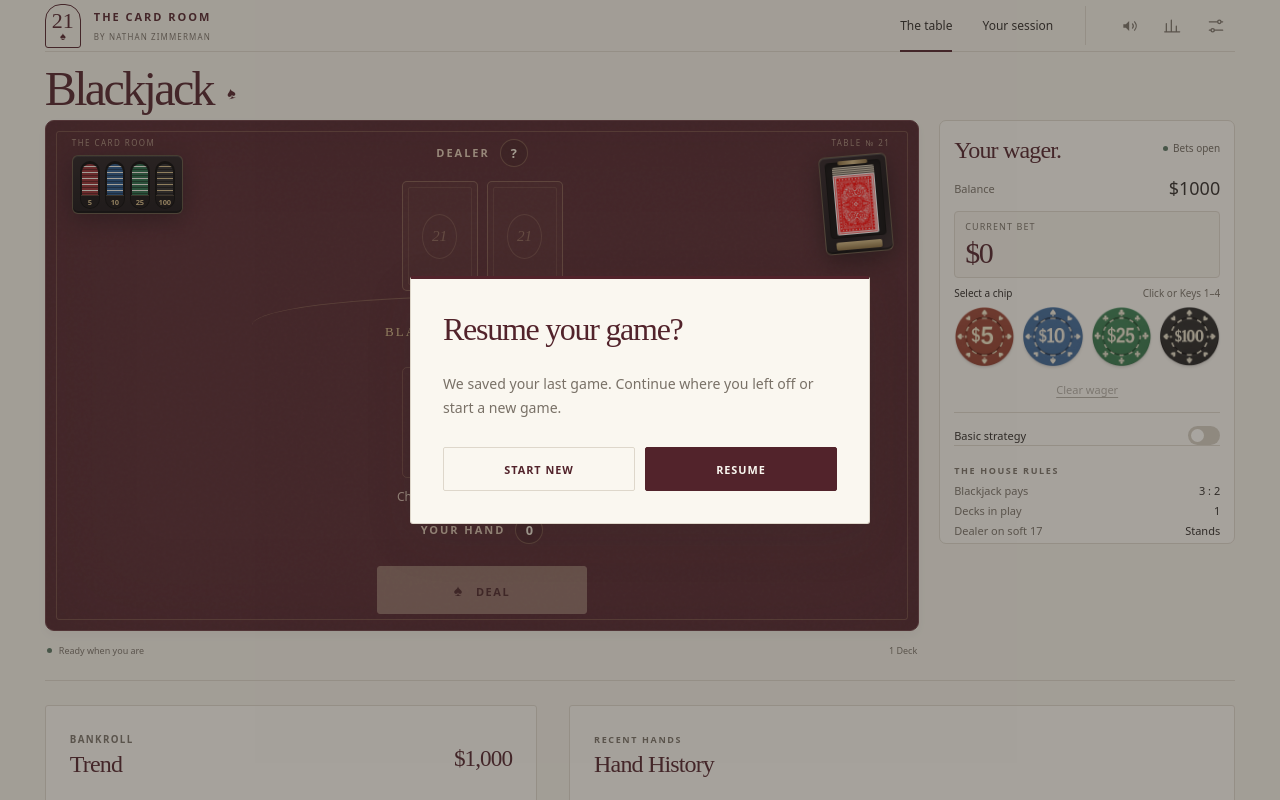
Test: BlackjackGame › handles resume action
Expected: the heading "Resume your game?" is shown, [443,311,682,347]
Click the button "Resume" at (741, 469), box [645,447,837,491]
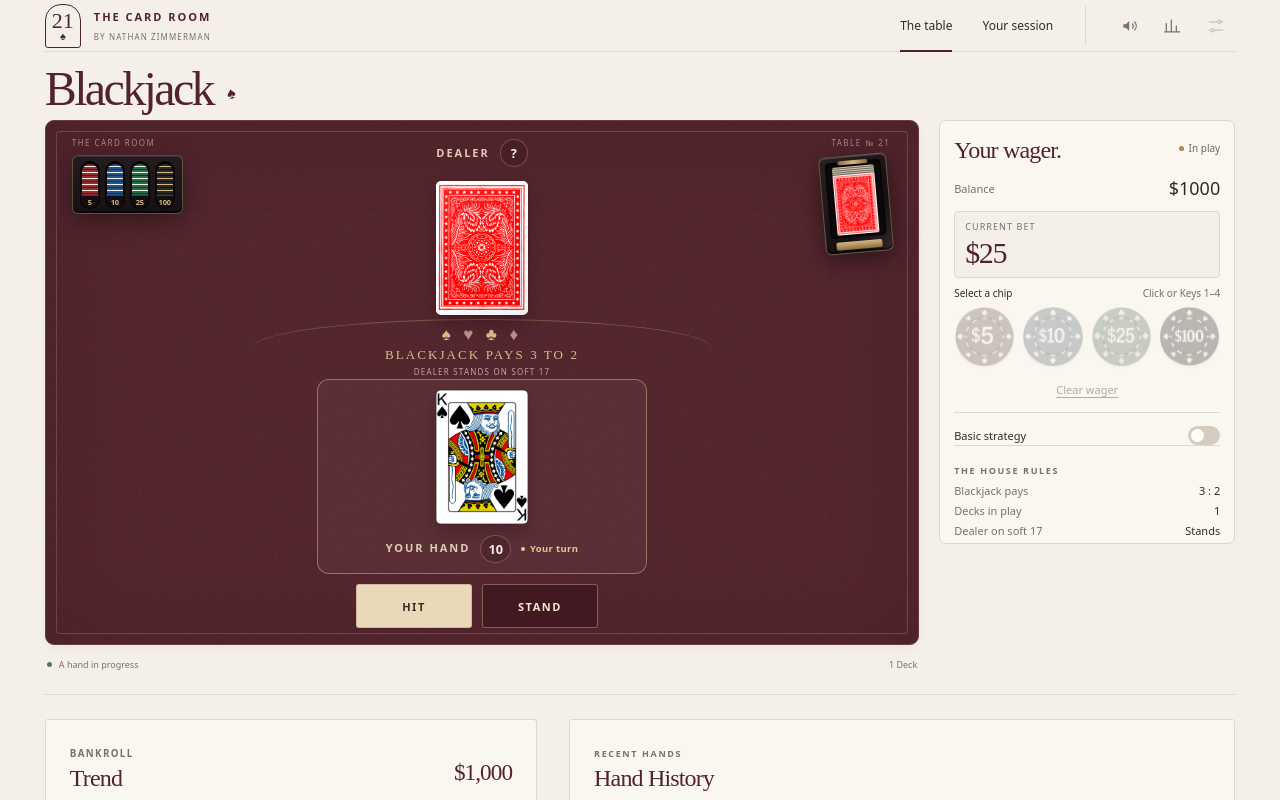
Expected: the heading "Resume your game" is gone
